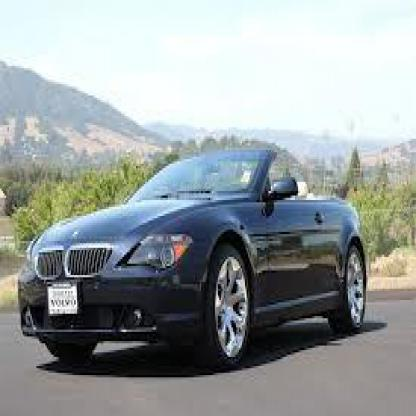Vehicle: (17, 150, 372, 364)
